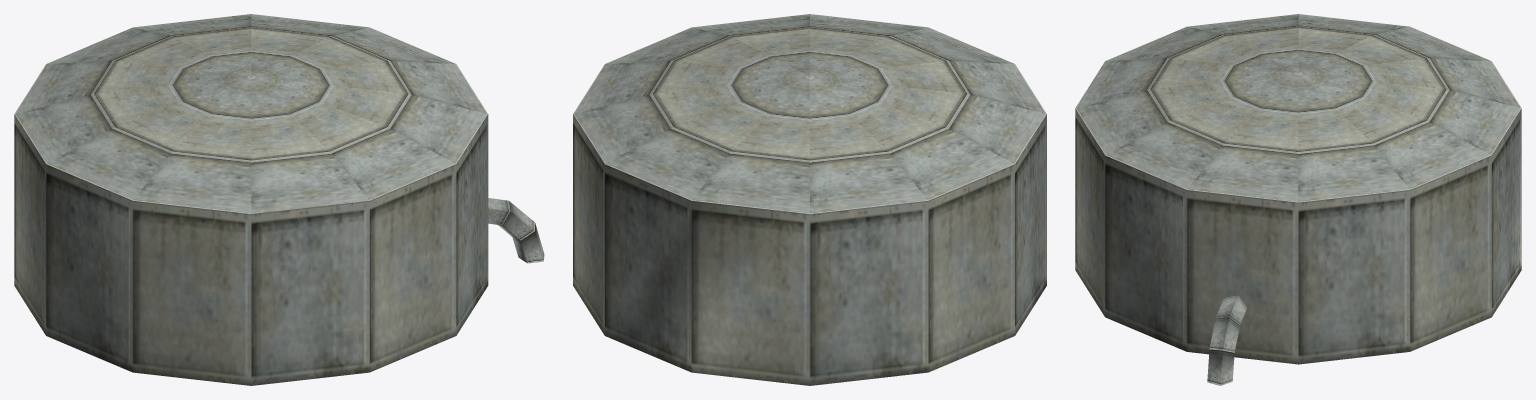
File: OILTANK.glb
3 renders of one model, left to right at view 1: azimuth 30°, elevation 25°; view 2: azimuth 150°, elevation 25°; view 3: azimuth 270°, elevation 25°, orthographic. The views are drawn at different scales.
Visible parts, largest first — view 1: _OILTANK; view 2: _OILTANK; view 3: _OILTANK.
Boxes of the visible parts, box(x1,y1,x2,y2) form: _OILTANK: box(14, 14, 544, 385); _OILTANK: box(573, 14, 1046, 385); _OILTANK: box(1075, 14, 1521, 385).
Size of the model in its own units: 17.82 by 7.8 by 16.
Materials: 1 (1 with a texture image).
